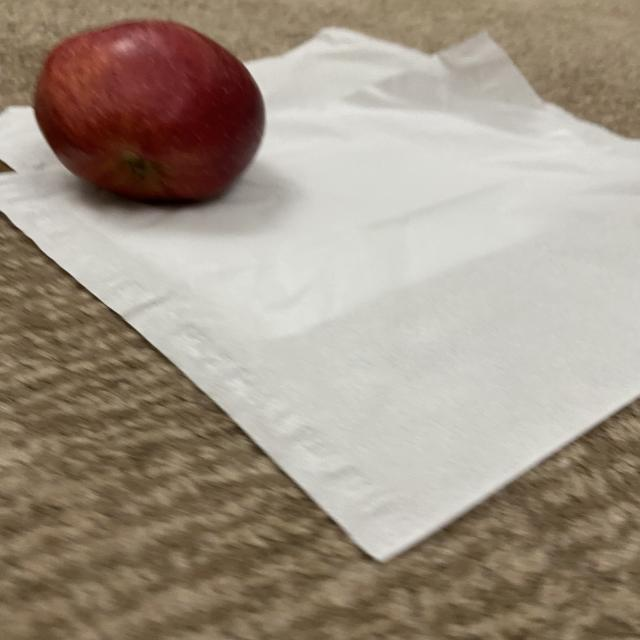apple: (27, 16, 274, 211)
